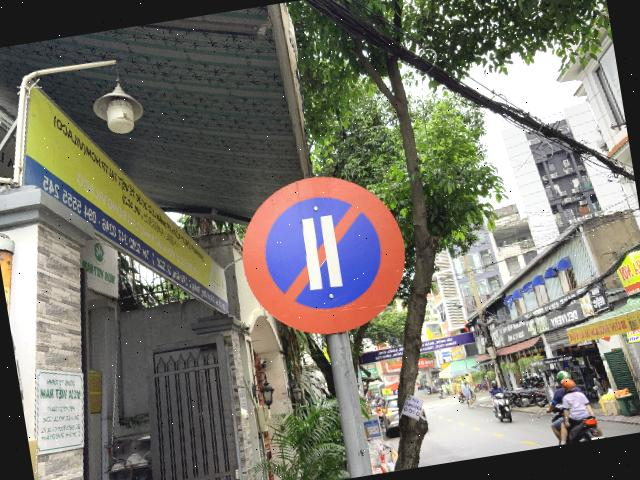cam-do-xe-ngay-chan: (232, 164, 414, 346)
